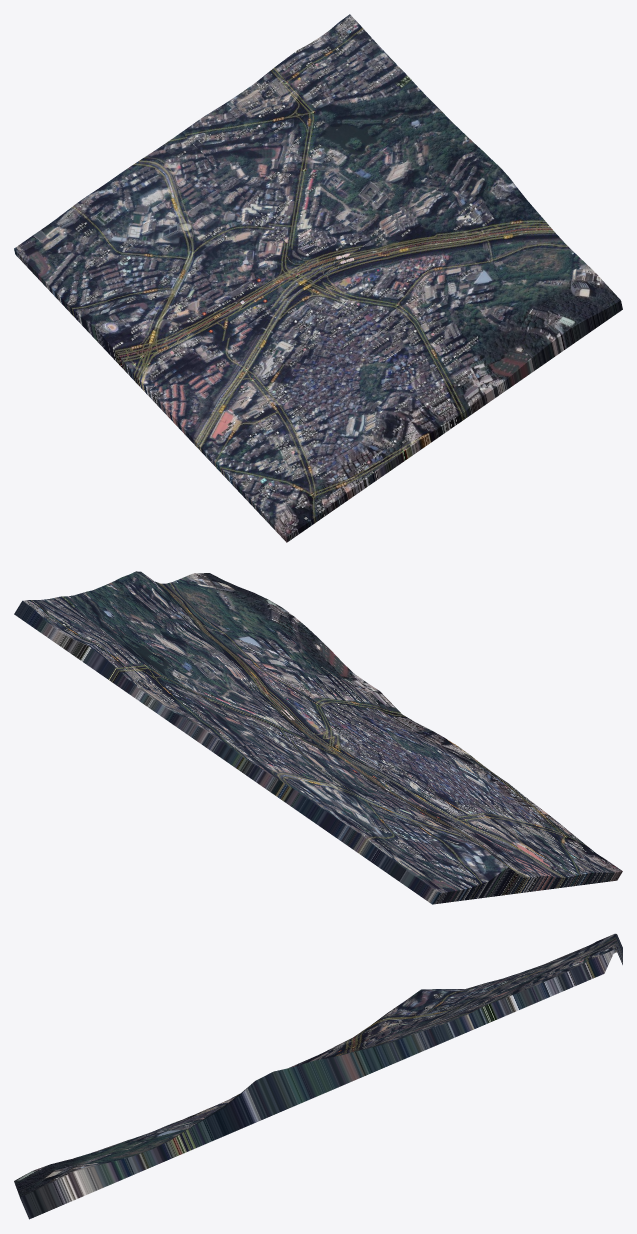
The picture shows the model from 3 angles, top to bottom: view 1: azimuth 30°, elevation 25°; view 2: azimuth 150°, elevation 25°; view 3: azimuth 270°, elevation 25°; orthographic projection. The views are drawn at different scales.
Parts seen in each view (by area): view 1: 1_3_6; view 2: 1_3_6; view 3: 1_3_6.
Boxes of the visible parts, x1,y1,x2,y2 form: 1_3_6: (14,14,622,542); 1_3_6: (14,571,622,904); 1_3_6: (14,933,622,1219).
Bounding box in the file's own units: 1233 × 913 × 1148.
Materials: 1 (1 with a texture image).
